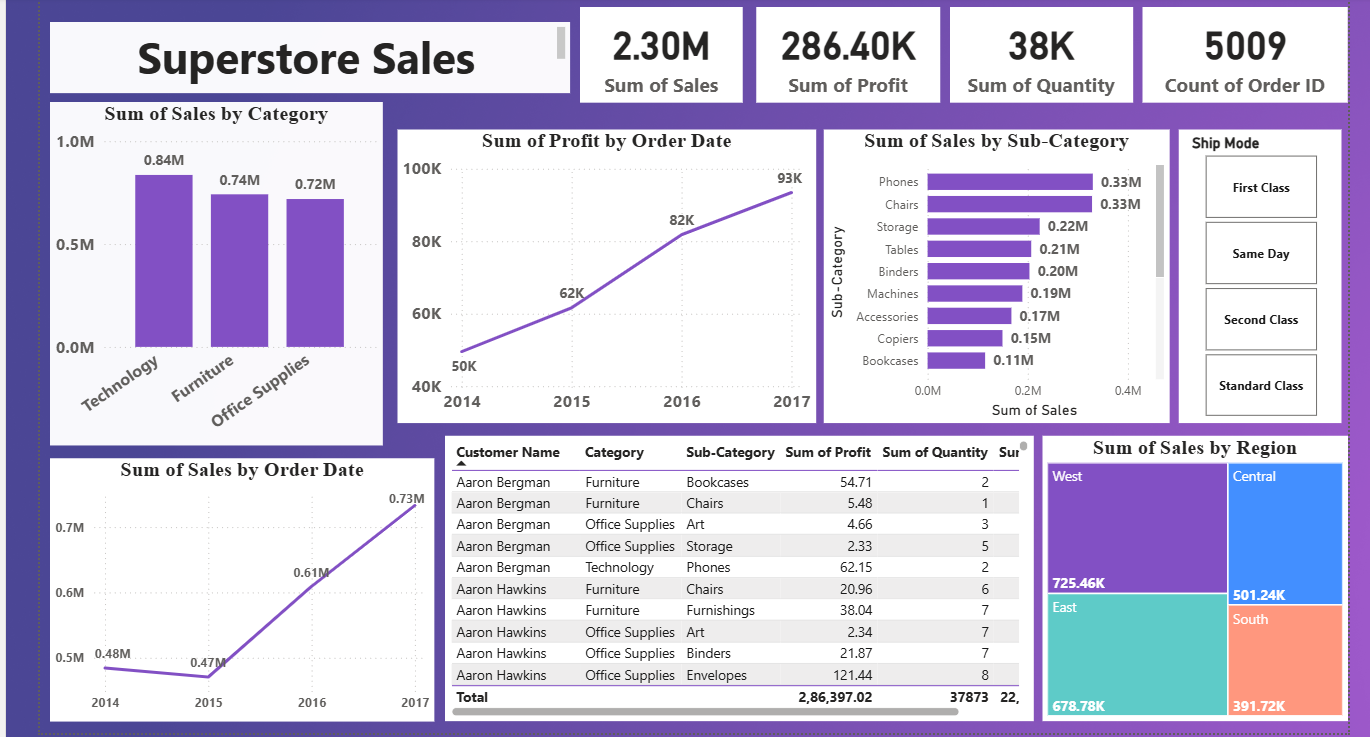

Layout of this report page (visuals, bound fields, positions):
{"tool":"powerbi","page":{"name":"Page 1","canvas":[1280,720],"ordinal":0},"visuals":[{"type":"card","fields":{"Values":["Sum(Superstore.Sales)"]},"box":[528.5,9.2,159.2,93.5],"z":0},{"type":"card","fields":{"Values":["Sum(Superstore.Profit)"]},"box":[700.4,9.2,180,93.5],"z":1000},{"type":"card","fields":{"Values":["Sum(Superstore.Quantity)"]},"box":[890.8,9.2,178.8,93.5],"z":2000},{"type":"textbox","box":[10.4,24.2,508.8,69.2],"z":3000},{"type":"card","fields":{"Values":["Count(Superstore.Order ID)"]},"box":[1078.8,9.2,200.8,93.5],"z":4000},{"type":"lineChart","fields":{"Y":["Sum(Superstore.Sales)"],"Category":["Superstore.Order Date.3"]},"box":[10.4,451.2,376.2,257.3],"z":5000},{"type":"lineChart","fields":{"Category":["Superstore.Order Date.3"],"Y":["Sum(Superstore.Profit)"]},"box":[349.6,129.2,409.6,287.3],"z":6000},{"type":"columnChart","fields":{"Category":["Superstore.Category"],"Y":["Sum(Superstore.Sales)"]},"box":[10.4,102.7,325.4,335.8],"z":7000},{"type":"barChart","fields":{"Category":["Superstore.Sub-Category"],"Y":["Sum(Superstore.Sales)"]},"box":[767.3,129.2,338.1,287.3],"z":8000},{"type":"treemap","fields":{"Group":["Superstore.Region"],"Values":["Sum(Superstore.Sales)"]},"box":[980.8,429.2,298.8,279.2],"z":9000},{"type":"tableEx","fields":{"Values":["Superstore.Customer Name","Superstore.Category","Superstore.Sub-Category","Sum(Superstore.Profit)","Sum(Superstore.Quantity)","Sum(Superstore.Sales)"]},"box":[395.8,429.2,575.8,279.2],"z":9001},{"type":"slicer","fields":{"Values":["Superstore.Ship Mode"]},"box":[1113.5,129.2,159.2,287.3],"z":9002}]}

Visuals, with their boxes in screenshot pixels (x1, y1, x2, y2):
card - Sum(Superstore.Sales): bbox=[577, 6, 738, 100]
card - Sum(Superstore.Profit): bbox=[751, 6, 933, 100]
card - Sum(Superstore.Quantity): bbox=[944, 6, 1125, 100]
textbox: bbox=[53, 21, 568, 91]
card - Count(Superstore.Order ID): bbox=[1134, 6, 1337, 100]
lineChart - Sum(Superstore.Sales) x Superstore.Order Date.3: bbox=[53, 453, 434, 713]
lineChart - Superstore.Order Date.3 x Sum(Superstore.Profit): bbox=[396, 127, 811, 418]
columnChart - Superstore.Category x Sum(Superstore.Sales): bbox=[53, 100, 382, 440]
barChart - Superstore.Sub-Category x Sum(Superstore.Sales): bbox=[819, 127, 1161, 418]
treemap - Superstore.Region x Sum(Superstore.Sales): bbox=[1035, 431, 1337, 713]
tableEx - Superstore.Customer Name x Superstore.Category: bbox=[443, 431, 1026, 713]
slicer - Superstore.Ship Mode: bbox=[1169, 127, 1330, 418]
